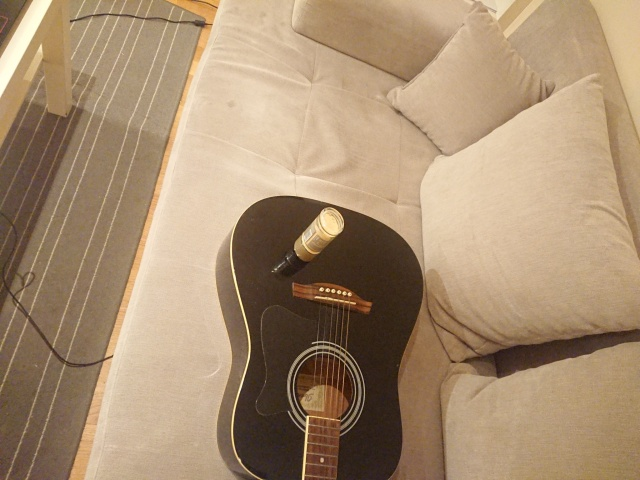Kotanyi Garlic Granules 70g: (292, 206, 345, 265)
